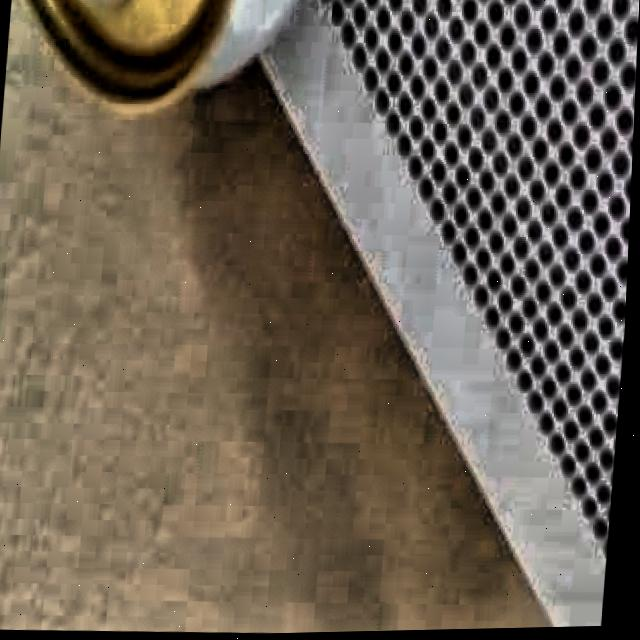metal: (3, 0, 505, 128)
